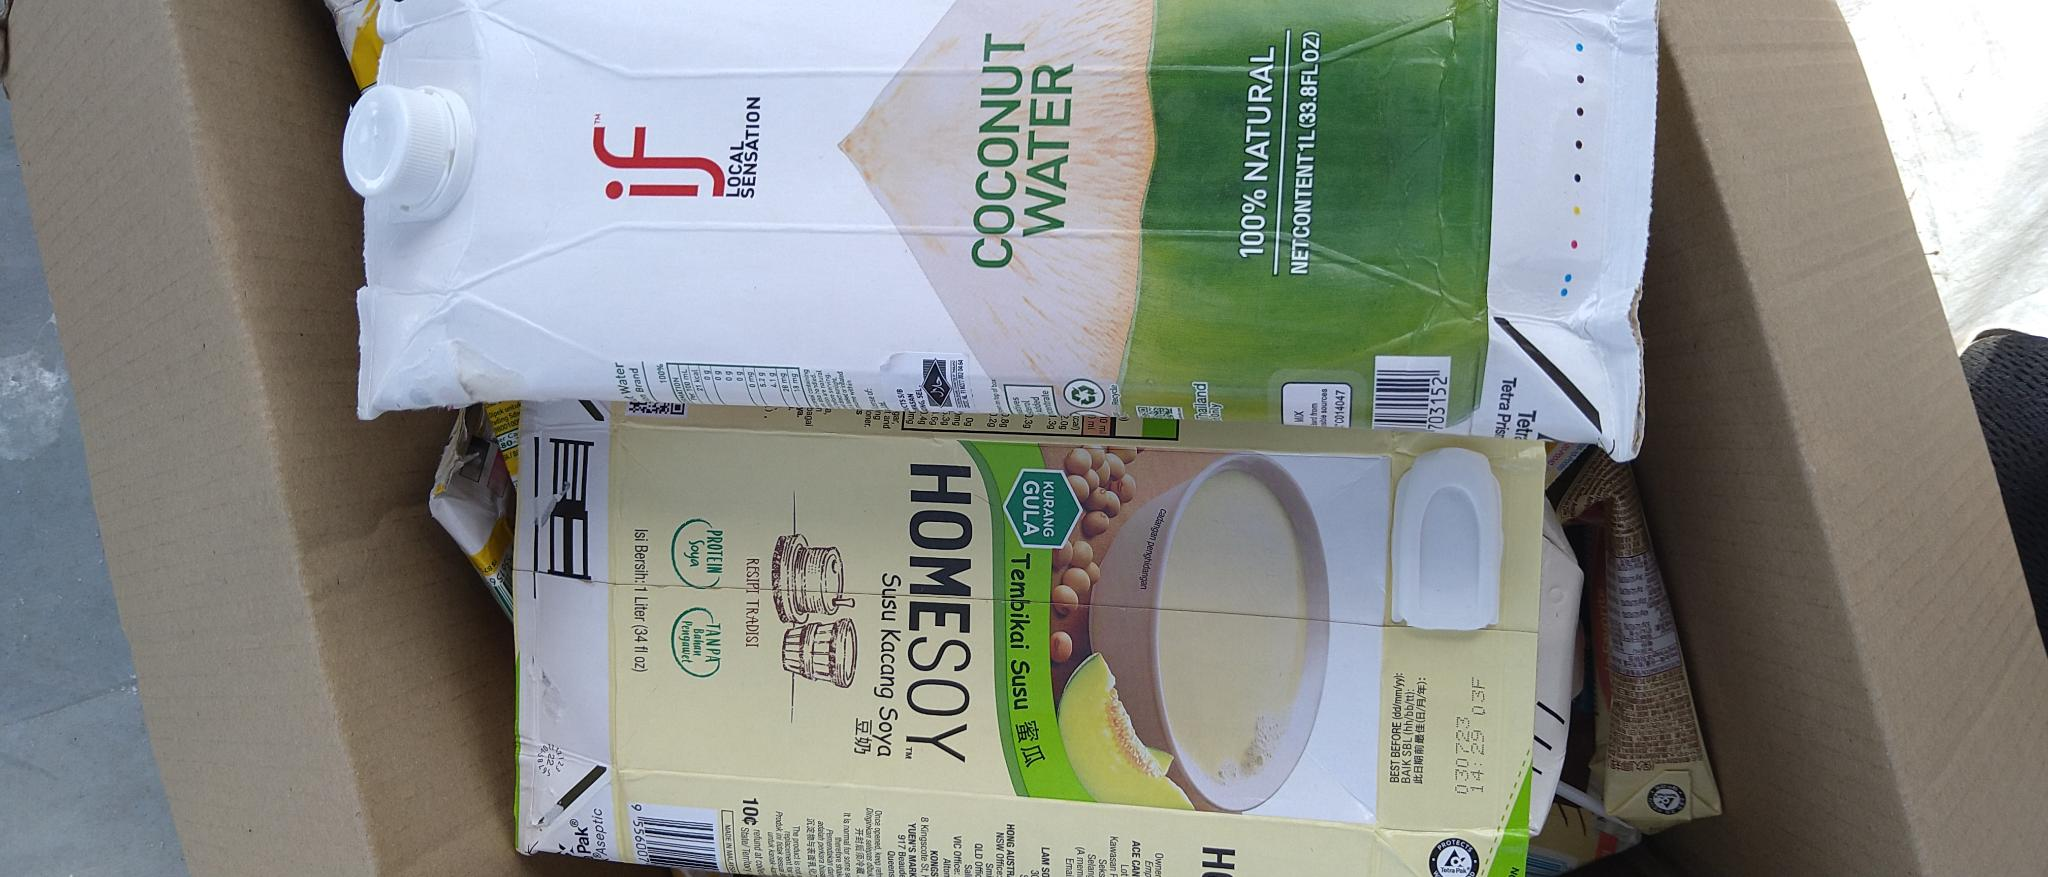cardboard: (336, 0, 1655, 455), (511, 403, 1574, 876)
